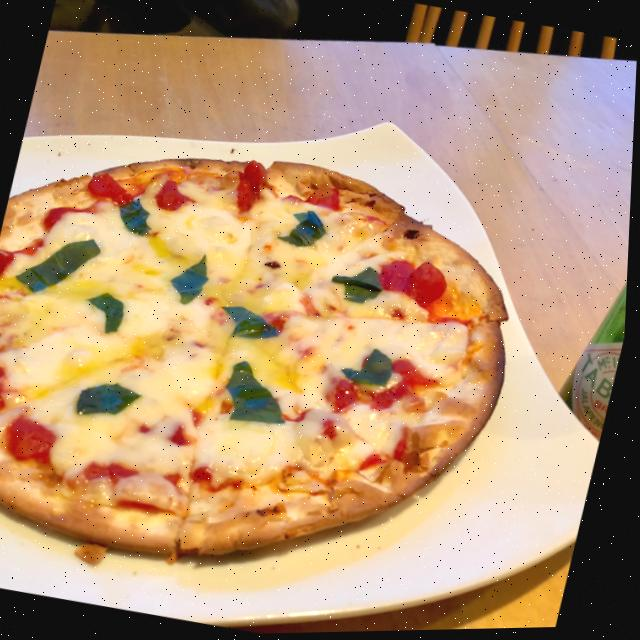basil: (14, 225, 106, 305), (222, 358, 305, 433), (78, 376, 148, 426), (167, 248, 221, 310), (328, 261, 391, 314), (341, 341, 402, 395), (220, 301, 286, 347), (276, 206, 333, 255), (82, 287, 134, 338), (115, 195, 163, 241)
pizza: (0, 107, 549, 632)
